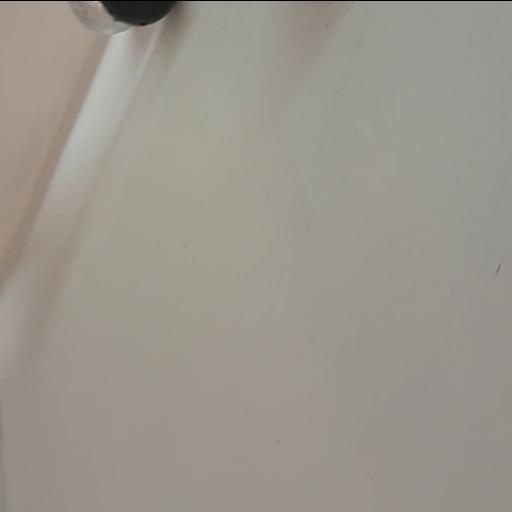alive: (68, 0, 132, 32)
dead: (101, 0, 179, 27)
